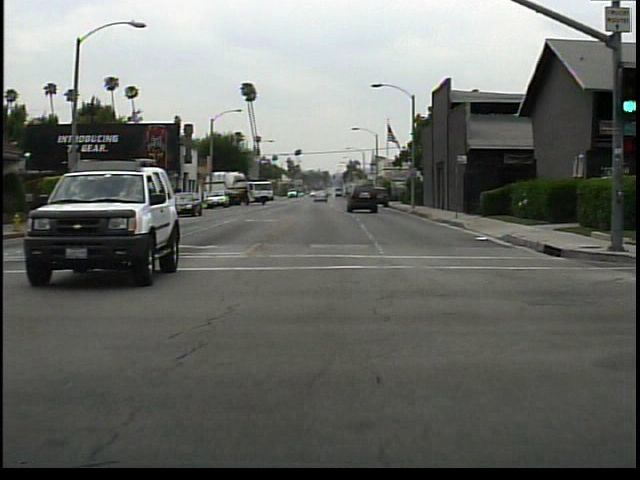person: (91, 182, 111, 220)
